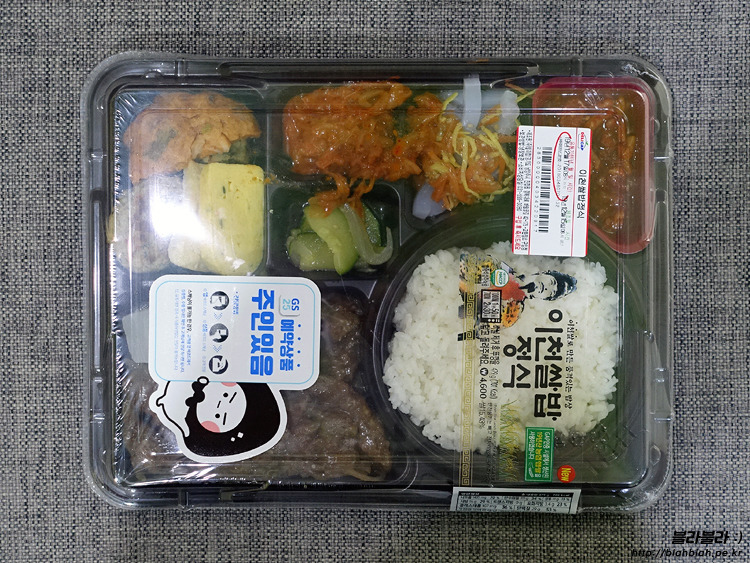ssalbab: (385, 248, 465, 454)
